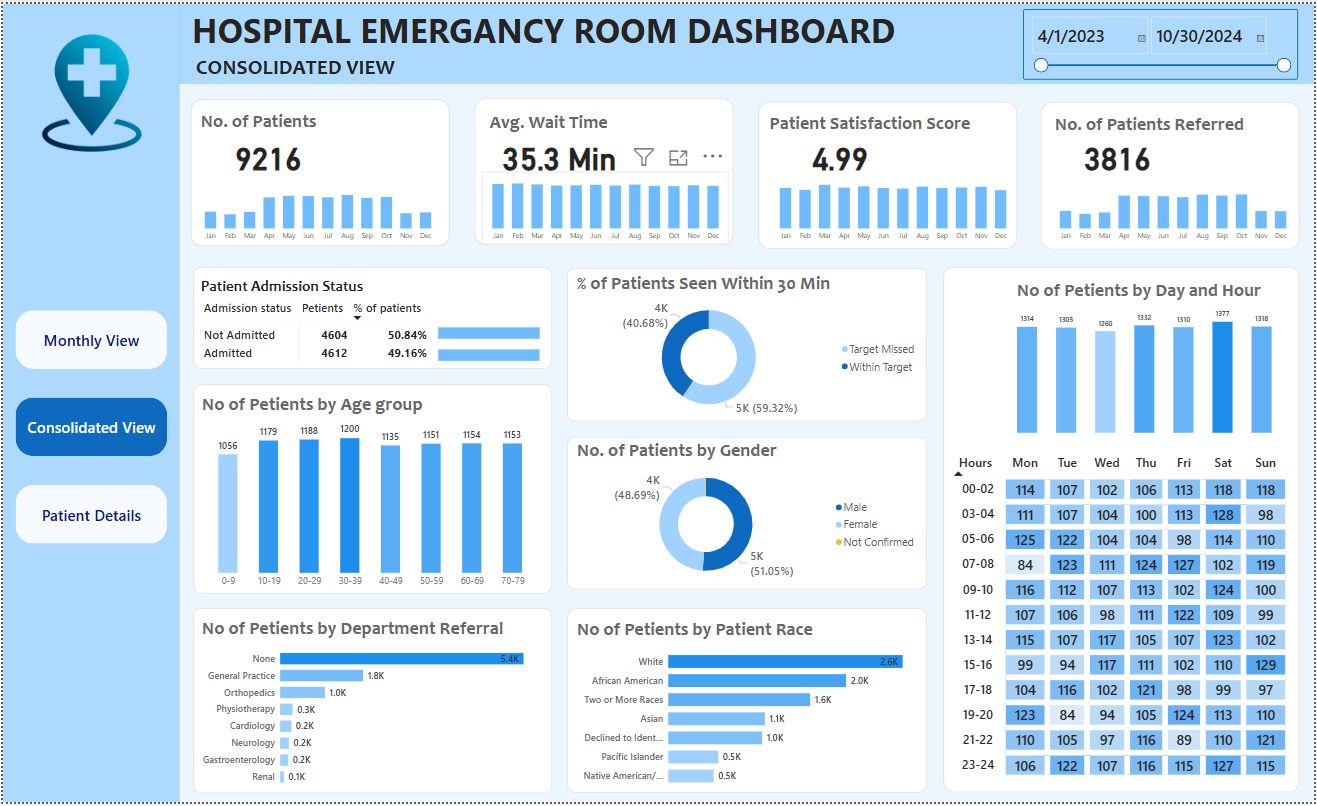

Layout of this report page (visuals, bound fields, positions):
{"tool":"powerbi","page":{"name":"Consolidated View","canvas":[2300,1400],"ordinal":1},"visuals":[{"type":"shape","box":[0,0,310,1400],"z":0},{"type":"shape","box":[308.7,0,1989.8,140.5],"z":1000},{"type":"textbox","box":[327,0,1284.6,96.2],"z":2000},{"type":"textbox","box":[332.9,83.2,425.6,57.1],"z":3000},{"type":"shape","box":[327.9,166.7,455,259],"z":4000},{"type":"columnChart","fields":{"Category":["Date Table.Month"],"Y":["Hospital ER_Data.No of Petients"]},"box":[336.3,293.1,435,130],"z":5000},{"type":"card","fields":{"Values":["Hospital ER_Data.No of Petients"]},"box":[389.9,216.4,149.8,95.1],"z":6000},{"type":"slicer","fields":{"Values":["Date Table.Date"]},"box":[1788.1,9.5,482.7,123.6],"z":7000},{"type":"textbox","box":[342.5,180,240,60],"z":9000},{"type":"shape","box":[825.3,165,455,259],"z":11000},{"type":"card","fields":{"Values":["Hospital ER_Data.Avg wait time"]},"box":[846.5,216.4,259.2,95.1],"z":12000},{"type":"textbox","box":[847.5,182.5,257.5,60],"z":13000},{"type":"shape","box":[1322.6,170,455,259],"z":14000},{"type":"shape","box":[1820,170,455,260],"z":15000},{"type":"columnChart","fields":{"Category":["Date Table.Month"],"Y":["Avg(Hospital ER_Data.Patient Waittime)"]},"box":[838.8,293.1,435,130],"z":16000},{"type":"textbox","box":[1338.7,183.1,380.4,59.4],"z":17000},{"type":"card","fields":{"Values":["Hospital ER_Data.Satisfaction score"]},"box":[1338.7,216.4,256.8,95.1],"z":18000},{"type":"columnChart","fields":{"Category":["Date Table.Month"],"Y":["Hospital ER_Data.Satisfaction score"]},"box":[1342.5,292.9,435.1,130],"z":19000},{"type":"textbox","box":[1826.1,185.5,380.4,59.4],"z":20000},{"type":"shape","box":[332.9,461.3,630,180],"z":21000},{"type":"card","fields":{"Values":["Hospital ER_Data.No of patients referred"]},"box":[1826.1,216.4,256.8,95.1],"z":22000},{"type":"columnChart","fields":{"Category":["Date Table.Month"],"Y":["Hospital ER_Data.No of patients referred"]},"box":[1834.7,292.9,435.1,130],"z":23000},{"type":"pivotTable","title":"Patient Admission Status","fields":{"Rows":["Hospital ER_Data.Admission status"],"Values":["Hospital ER_Data.No of Petients","Hospital ER_Data.No of patients referred"]},"box":[342.4,477.9,599.2,159.3],"z":24000},{"type":"barChart","fields":{"Category":["Hospital ER_Data.Admission status"],"Y":["Hospital ER_Data.No of Petients"]},"box":[758.6,534.3,241.4,118.6],"z":25000},{"type":"shape","box":[332.5,665.7,630,368],"z":26000},{"type":"clusteredColumnChart","fields":{"Category":["Hospital ER_Data.Age group"],"Y":["Hospital ER_Data.No of Petients"]},"box":[344.8,682.4,601.6,351.9],"z":27000},{"type":"shape","box":[332.9,1058.1,630.1,325.7],"z":28000},{"type":"clusteredBarChart","fields":{"Category":["Hospital ER_Data.Department Referral"],"Y":["Hospital ER_Data.No of Petients"]},"box":[344.8,1074.7,601.6,309.1],"z":29000},{"type":"shape","box":[988.3,461.7,631.7,270],"z":31000},{"type":"donutChart","title":"% of Patients Seen Within 30 Min","fields":{"Category":["Hospital ER_Data.Wait time status"],"Y":["Hospital ER_Data.No of Petients"]},"box":[1001.7,470,610,261.7],"z":32000},{"type":"shape","box":[988.3,758.3,631.7,268.3],"z":33000},{"type":"donutChart","title":"No. of Patients by Gender","fields":{"Y":["Hospital ER_Data.No of Petients"],"Category":["Hospital ER_Data.Patient Gender"]},"box":[1001.7,763.3,610,260],"z":34000},{"type":"shape","box":[988.3,1058.3,631.7,325],"z":35000},{"type":"clusteredBarChart","fields":{"Y":["Hospital ER_Data.No of Petients"],"Category":["Hospital ER_Data.Patient Race"]},"box":[1001.7,1075,610,308.3],"z":36000},{"type":"shape","box":[1647.8,461.3,625.3,922.6],"z":37000},{"type":"pivotTable","fields":{"Rows":["Hospital ER_Data.Waittime interval"],"Columns":["Date Table.Day name"],"Values":["Hospital ER_Data.No of Petients"]},"box":[1657.3,782.3,603.9,584.9],"z":38000},{"type":"columnChart","title":"No of Petients by Day and Hour","fields":{"Category":["Date Table.Day name"],"Y":["Hospital ER_Data.No of Petients"]},"box":[1773.8,482.7,458.9,275.8],"z":39000},{"type":"image","box":[42.8,47.6,223.5,216.4],"z":39001},{"type":"pageNavigator","box":[21.4,537.4,266.3,411.3],"z":39002}]}

Visuals, with their boxes in screenshot pixels (x1, y1, x2, y2), scaled from the page's 2300x1400 canvas onto the 1317x806 screenshot:
shape: {"left": 0, "top": 0, "right": 178, "bottom": 805}
shape: {"left": 177, "top": 0, "right": 1316, "bottom": 81}
textbox: {"left": 187, "top": 0, "right": 923, "bottom": 55}
textbox: {"left": 191, "top": 48, "right": 434, "bottom": 81}
shape: {"left": 188, "top": 96, "right": 448, "bottom": 245}
columnChart - Date Table.Month x Hospital ER_Data.No of Petients: {"left": 193, "top": 169, "right": 442, "bottom": 244}
card - Hospital ER_Data.No of Petients: {"left": 223, "top": 125, "right": 309, "bottom": 179}
slicer - Date Table.Date: {"left": 1024, "top": 5, "right": 1300, "bottom": 77}
textbox: {"left": 196, "top": 104, "right": 334, "bottom": 138}
shape: {"left": 473, "top": 95, "right": 733, "bottom": 244}
card - Hospital ER_Data.Avg wait time: {"left": 485, "top": 125, "right": 633, "bottom": 179}
textbox: {"left": 485, "top": 105, "right": 633, "bottom": 140}
shape: {"left": 757, "top": 98, "right": 1018, "bottom": 247}
shape: {"left": 1042, "top": 98, "right": 1303, "bottom": 248}
columnChart - Date Table.Month x Avg(Hospital ER_Data.Patient Waittime): {"left": 480, "top": 169, "right": 729, "bottom": 244}
textbox: {"left": 767, "top": 105, "right": 984, "bottom": 140}
card - Hospital ER_Data.Satisfaction score: {"left": 767, "top": 125, "right": 914, "bottom": 179}
columnChart - Date Table.Month x Hospital ER_Data.Satisfaction score: {"left": 769, "top": 169, "right": 1018, "bottom": 243}
textbox: {"left": 1046, "top": 107, "right": 1263, "bottom": 141}
shape: {"left": 191, "top": 266, "right": 551, "bottom": 369}
card - Hospital ER_Data.No of patients referred: {"left": 1046, "top": 125, "right": 1193, "bottom": 179}
columnChart - Date Table.Month x Hospital ER_Data.No of patients referred: {"left": 1051, "top": 169, "right": 1300, "bottom": 243}
"Patient Admission Status" pivotTable: {"left": 196, "top": 275, "right": 539, "bottom": 367}
barChart - Hospital ER_Data.Admission status x Hospital ER_Data.No of Petients: {"left": 434, "top": 308, "right": 573, "bottom": 376}
shape: {"left": 190, "top": 383, "right": 551, "bottom": 595}
clusteredColumnChart - Hospital ER_Data.Age group x Hospital ER_Data.No of Petients: {"left": 197, "top": 393, "right": 542, "bottom": 595}
shape: {"left": 191, "top": 609, "right": 551, "bottom": 797}
clusteredBarChart - Hospital ER_Data.Department Referral x Hospital ER_Data.No of Petients: {"left": 197, "top": 619, "right": 542, "bottom": 797}
shape: {"left": 566, "top": 266, "right": 928, "bottom": 421}
"% of Patients Seen Within 30 Min" donutChart: {"left": 574, "top": 271, "right": 923, "bottom": 421}
shape: {"left": 566, "top": 437, "right": 928, "bottom": 591}
"No. of Patients by Gender" donutChart: {"left": 574, "top": 439, "right": 923, "bottom": 589}
shape: {"left": 566, "top": 609, "right": 928, "bottom": 796}
clusteredBarChart - Hospital ER_Data.No of Petients x Hospital ER_Data.Patient Race: {"left": 574, "top": 619, "right": 923, "bottom": 796}
shape: {"left": 944, "top": 266, "right": 1302, "bottom": 797}
pivotTable - Hospital ER_Data.Waittime interval x Date Table.Day name: {"left": 949, "top": 450, "right": 1295, "bottom": 787}
"No of Petients by Day and Hour" columnChart: {"left": 1016, "top": 278, "right": 1278, "bottom": 437}
image: {"left": 25, "top": 27, "right": 152, "bottom": 152}
pageNavigator: {"left": 12, "top": 309, "right": 165, "bottom": 546}
